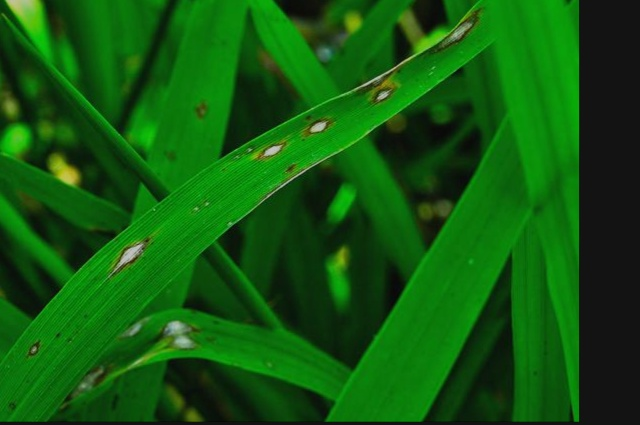Brown_Spot: (426, 8, 481, 52), (108, 232, 153, 271), (256, 129, 285, 163), (367, 73, 399, 103), (304, 112, 341, 137)
